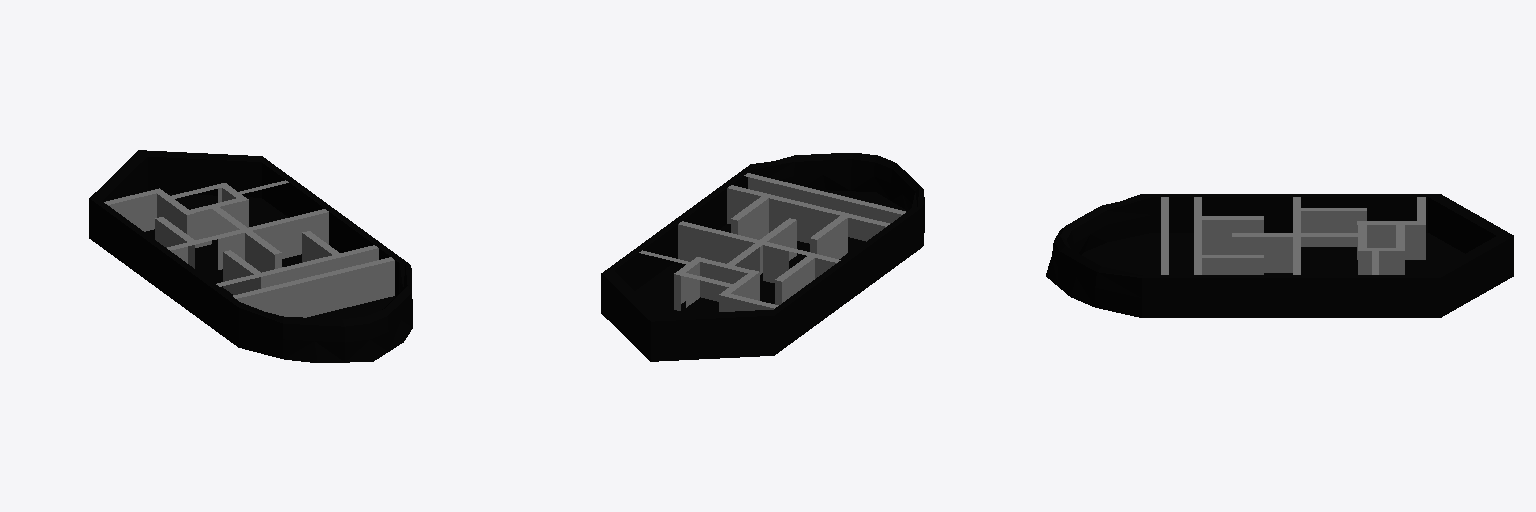
File: ship_base1.obj
3 renders of one model, left to right at view 1: azimuth 30°, elevation 25°; view 2: azimuth 150°, elevation 25°; view 3: azimuth 270°, elevation 25°, orthographic.
Visible parts, largest first — view 1: pCube24; view 2: pCube24; view 3: pCube24.
Part boxes in pixels (x1,y1,x2,y2): pCube24: (89,150,412,362); pCube24: (601,153,924,361); pCube24: (1046,194,1513,317).
Size of the model in its own units: 5112 by 1135 by 12004.